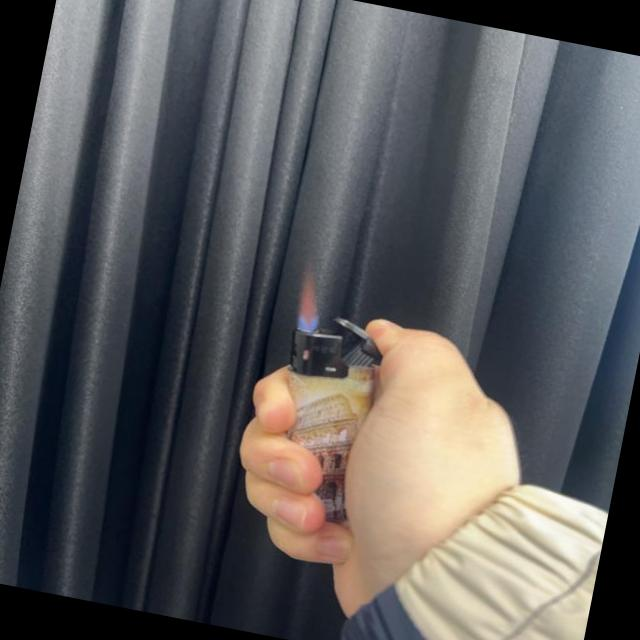Fire: (290, 268, 328, 334)
